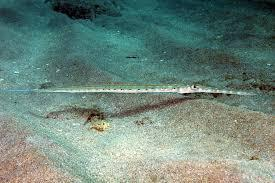Fistularia commersonii: (13, 67, 271, 121)
